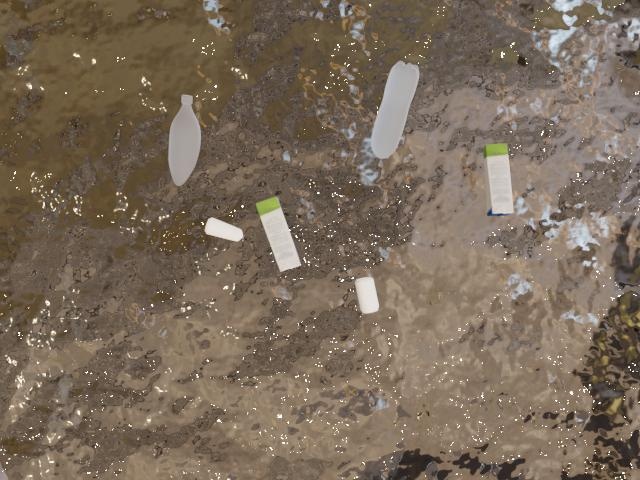Metal: (204, 206, 247, 259), (351, 262, 384, 324)
Plastic: (358, 52, 433, 168), (150, 90, 220, 191)
Trash: (254, 191, 305, 276), (482, 131, 520, 226)
